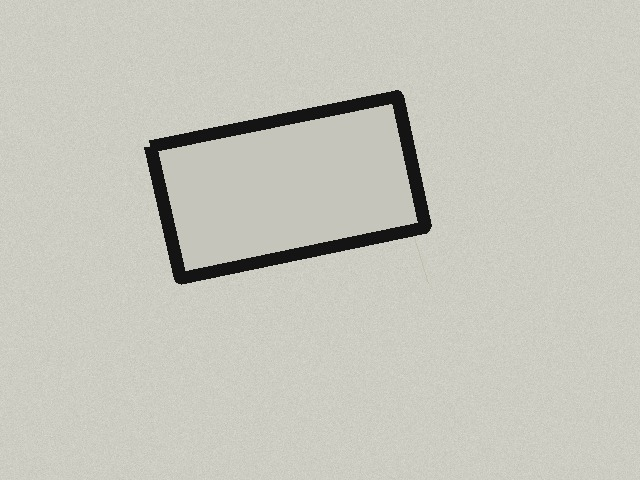parking_area: (150, 96, 425, 278)
